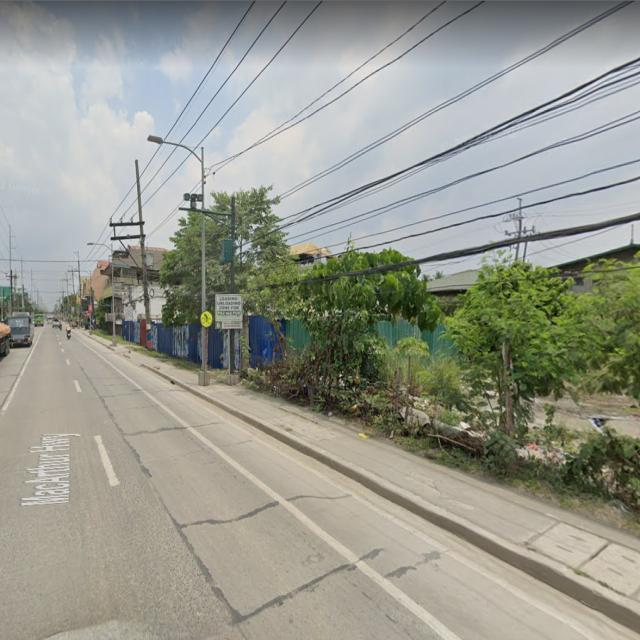bike lane: (199, 308, 214, 330)
